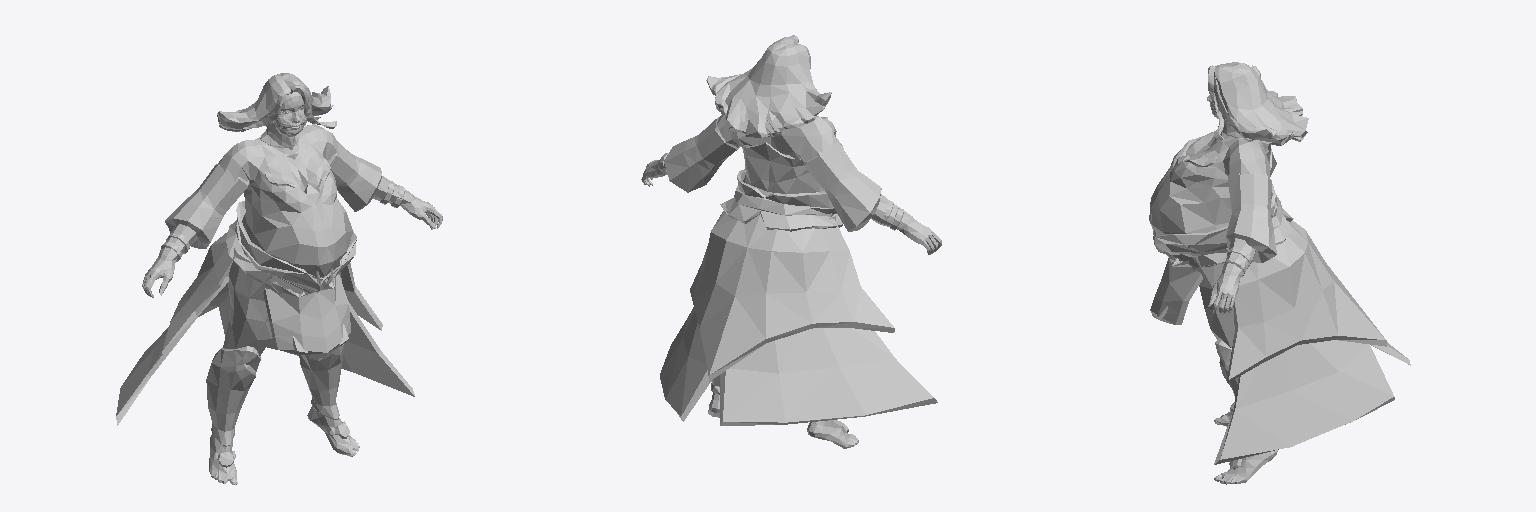
The model's file is lina_statue_000010.obj.
3 renders of one model, left to right at view 1: azimuth 30°, elevation 25°; view 2: azimuth 150°, elevation 25°; view 3: azimuth 270°, elevation 25°, orthographic.
Parts seen in each view (by area): view 1: lina_body.001_lina_body; view 2: lina_body.001_lina_body; view 3: lina_body.001_lina_body.
Boxes of the visible parts, <box> form: lina_body.001_lina_body: <box>116,73,442,484</box>; lina_body.001_lina_body: <box>641,35,941,448</box>; lina_body.001_lina_body: <box>1149,62,1410,484</box>.
Bounding box in the file's own units: 148 × 179 × 109.